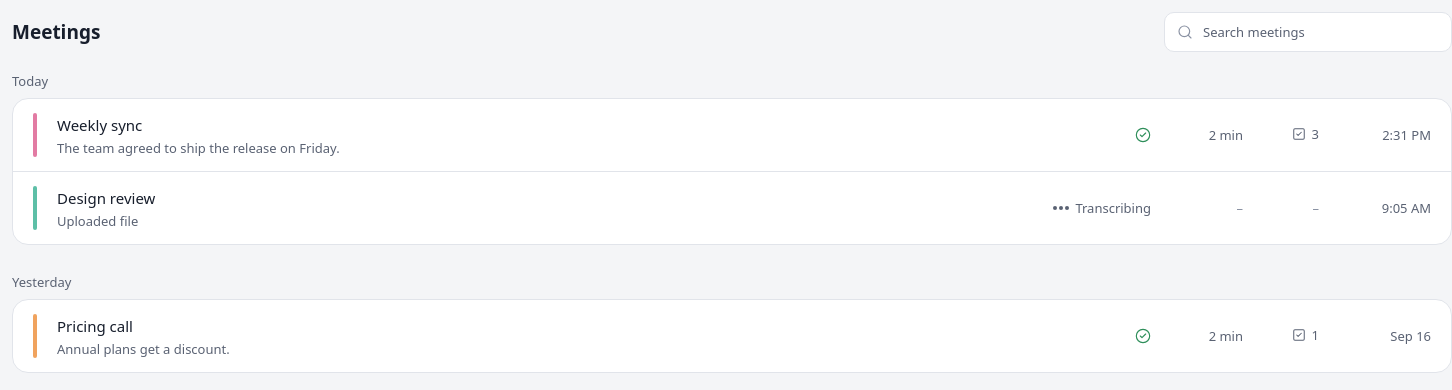
Test case: MeetingList › search › filters by title and snippet
Type "ANNUAL" into the search field labelled "Search meetings" at (1322,32), box [1197, 13, 1447, 51]
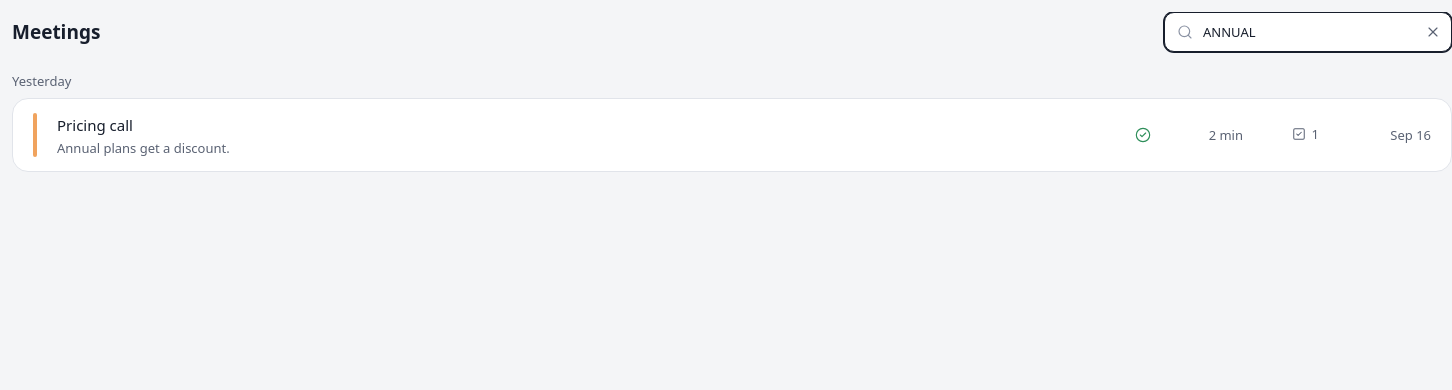
Now the number of links is 1, box [33, 113, 1167, 157]
Now the heading "Today" is gone
